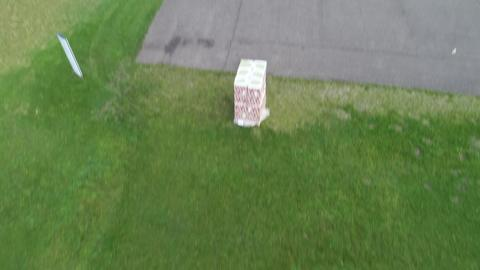RockwoolPallet: (232, 58, 269, 124)
